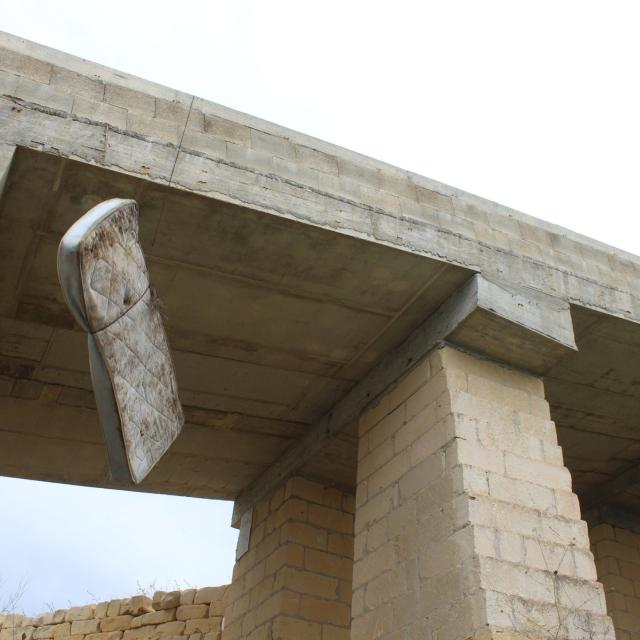Other litter: (52, 196, 185, 488)
